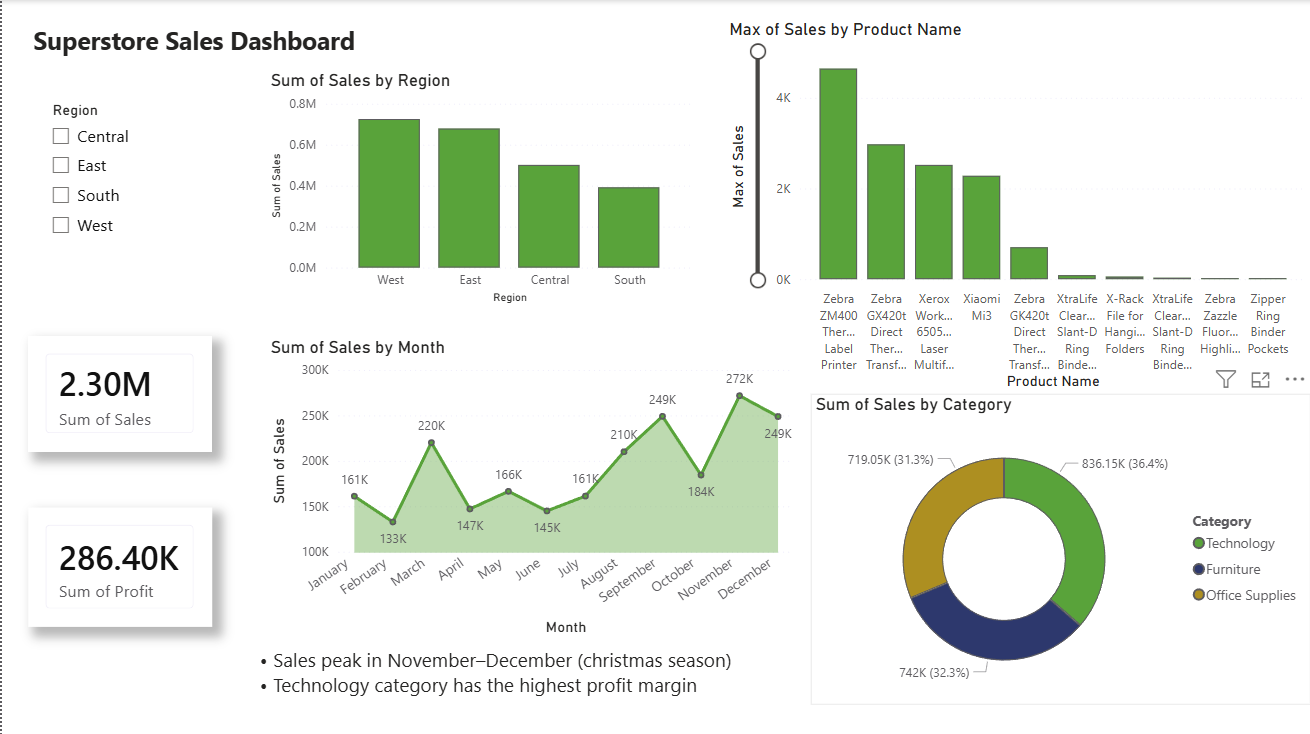

The dashboard page shown, as its layout file describes it:
{"tool":"powerbi","page":{"name":"Page 1","canvas":[1280,720],"ordinal":0},"visuals":[{"type":"cardVisual","fields":{"Data":["Sum(Sample - Superstore.Sales)"]},"box":[26.1,329.3,179.8,112.5],"z":0},{"type":"cardVisual","fields":{"Data":["Sum(Sample - Superstore.Profit)"]},"box":[26.1,496.7,179.8,116.6],"z":1000},{"type":"columnChart","fields":{"Category":["Sample - Superstore.Region"],"Y":["Sum(Sample - Superstore.Sales)"]},"box":[258,68.6,424,233.3],"z":2000},{"type":"columnChart","fields":{"Category":["Sample - Superstore.Product Name"],"Y":["Max(Sample - Superstore.Sales)"]},"box":[706.7,17.8,573.6,367.8],"z":3000},{"type":"donutChart","fields":{"Category":["Sample - Superstore.Category"],"Y":["Sum(Sample - Superstore.Sales)"]},"box":[791.8,385.6,488.5,304.6],"z":4000},{"type":"slicer","fields":{"Values":["Sample - Superstore.Region"]},"box":[37,94.7,159.2,163.3],"z":5000},{"type":"lineChart","fields":{"Y":["Sum(Sample - Superstore.Sales)"],"Category":["Sample - Superstore.Order Date.Variation.Date Hierarchy.Month"]},"box":[258,329.3,521.4,297.8],"z":6000},{"type":"textbox","box":[26.1,17.8,411.7,50.8],"z":7000},{"type":"textbox","box":[231.9,627.1,542,93.3],"z":7001}]}

Visuals, with their boxes in screenshot pixels (x1, y1, x2, y2), scaled from the page's 1280x720 canvas onto the 1310x734 screenshot:
cardVisual - Sum(Sample - Superstore.Sales): (x1=27, y1=336, x2=211, y2=450)
cardVisual - Sum(Sample - Superstore.Profit): (x1=27, y1=506, x2=211, y2=625)
columnChart - Sample - Superstore.Region x Sum(Sample - Superstore.Sales): (x1=264, y1=70, x2=698, y2=308)
columnChart - Sample - Superstore.Product Name x Max(Sample - Superstore.Sales): (x1=723, y1=18, x2=1309, y2=393)
donutChart - Sample - Superstore.Category x Sum(Sample - Superstore.Sales): (x1=810, y1=393, x2=1309, y2=704)
slicer - Sample - Superstore.Region: (x1=38, y1=97, x2=201, y2=263)
lineChart - Sum(Sample - Superstore.Sales) x Sample - Superstore.Order Date.Variation.Date Hierarchy.Month: (x1=264, y1=336, x2=798, y2=639)
textbox: (x1=27, y1=18, x2=448, y2=70)
textbox: (x1=237, y1=639, x2=792, y2=733)
